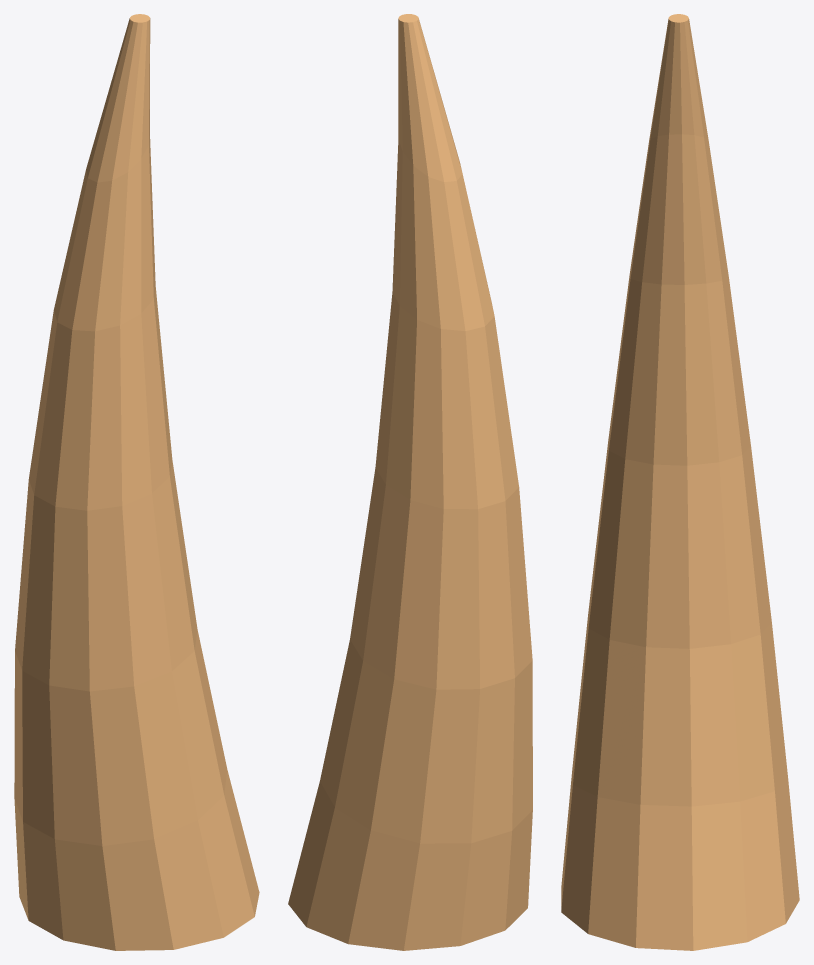
Rendered from Tusk 01.fbx.
3 renders of one model, left to right at view 1: azimuth 30°, elevation 25°; view 2: azimuth 150°, elevation 25°; view 3: azimuth 270°, elevation 25°, orthographic.
Parts seen in each view (by area): view 1: Tusk 01; view 2: Tusk 01; view 3: Tusk 01.
Boxes of the visible parts, bbox=[...] form: Tusk 01: bbox=[14, 14, 259, 950]; Tusk 01: bbox=[288, 14, 532, 950]; Tusk 01: bbox=[561, 14, 799, 950].
Bounding box in the file's own units: 72.99 × 285 × 69.76.
